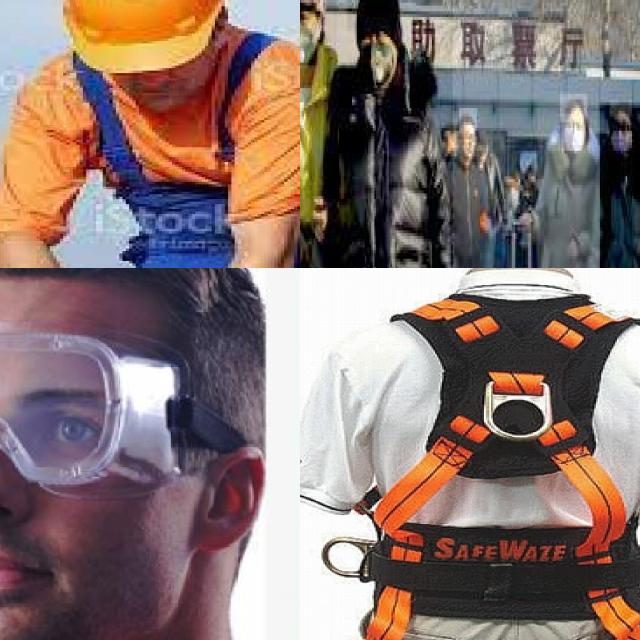Harness: (331, 292, 640, 640)
No_Ear-Protection: (192, 443, 268, 558)
face_mask: (360, 23, 395, 88), (300, 5, 318, 68), (562, 114, 584, 154), (610, 116, 632, 156)
face_nomask: (0, 394, 108, 609), (458, 128, 475, 159)
glasses: (0, 325, 203, 494)
head_helmet: (47, 0, 238, 78)
head_nohelmet: (347, 0, 398, 34), (560, 94, 589, 122), (459, 108, 478, 134), (610, 100, 634, 120)
person: (0, 0, 300, 268), (323, 0, 454, 268), (537, 102, 600, 268), (441, 105, 494, 268), (600, 102, 640, 268)
